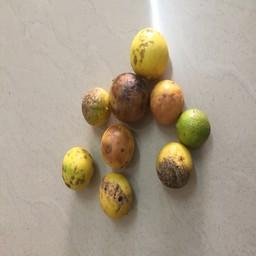Bad_lime: (156, 139, 195, 194), (110, 72, 148, 128), (131, 25, 170, 76), (61, 143, 96, 194), (100, 172, 134, 220), (152, 79, 185, 126), (78, 85, 113, 128), (100, 128, 136, 169)
